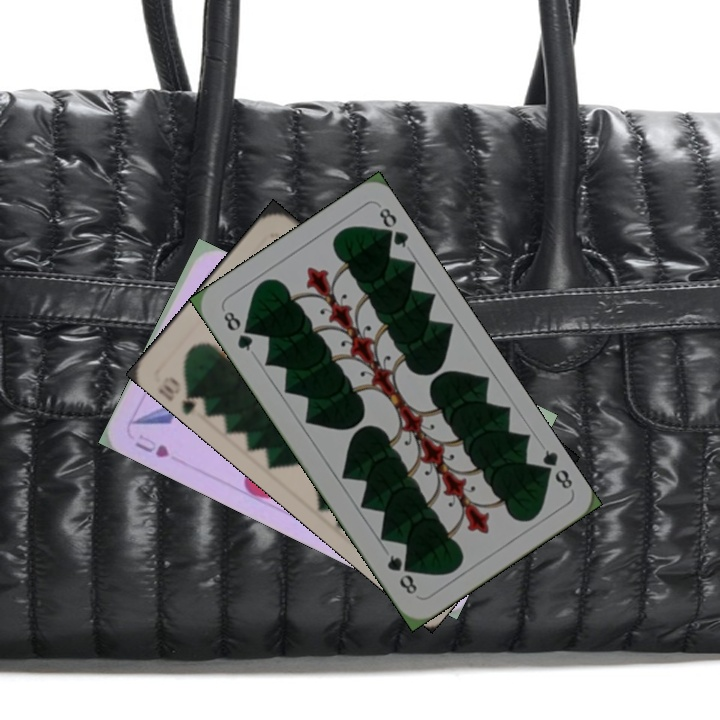G10: (158, 372, 208, 416)
G8: (534, 445, 576, 492), (219, 306, 256, 354)
HU: (130, 430, 172, 461)
